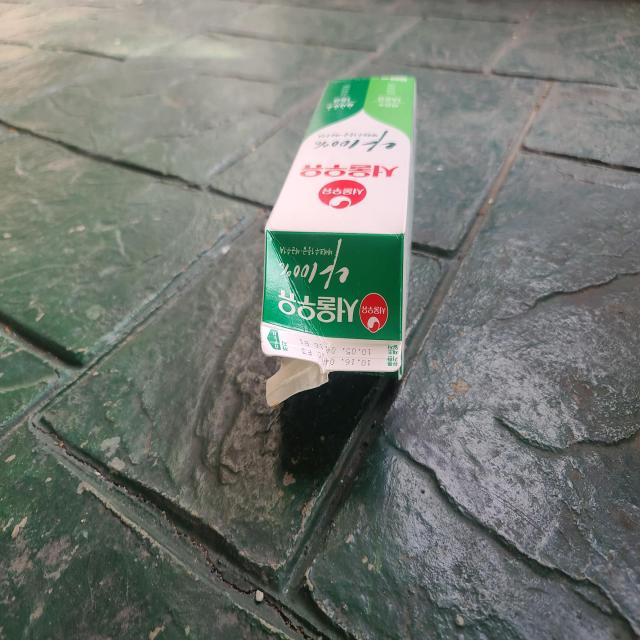paperpack: (261, 74, 416, 405)
